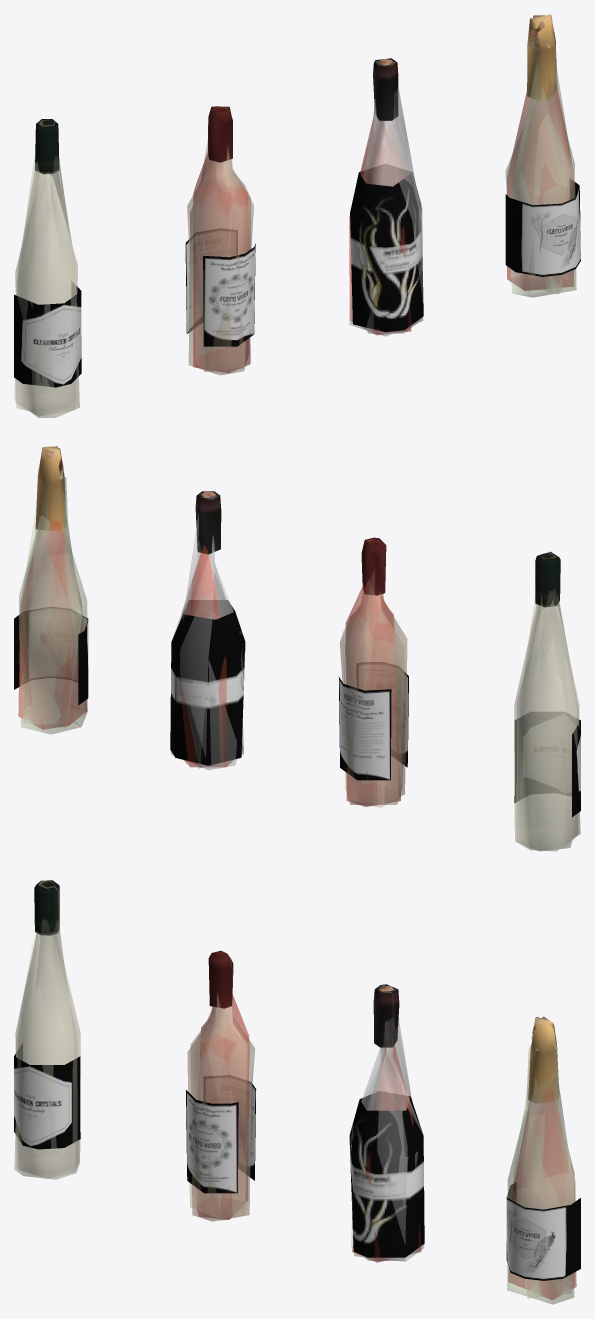
Rendered from bottles_lo.glb.
3 renders of one model, top to bottom at view 1: azimuth 30°, elevation 25°; view 2: azimuth 150°, elevation 25°; view 3: azimuth 330°, elevation 25°, orthographic.
Visible parts, largest first — view 1: wine_bottles_01_burgundy, wine_bottles_01_champagne, wine_bottles_01_alsace, wine_bottles_01_bordeaux; view 2: wine_bottles_01_champagne, wine_bottles_01_alsace, wine_bottles_01_burgundy, wine_bottles_01_bordeaux; view 3: wine_bottles_01_alsace, wine_bottles_01_champagne, wine_bottles_01_burgundy, wine_bottles_01_bordeaux.
Boxes of the visible parts, bbox=[...] form: wine_bottles_01_burgundy: bbox=[349, 58, 423, 336]; wine_bottles_01_champagne: bbox=[505, 14, 580, 297]; wine_bottles_01_alsace: bbox=[14, 119, 81, 417]; wine_bottles_01_bordeaux: bbox=[185, 106, 255, 375]; wine_bottles_01_champagne: bbox=[14, 446, 88, 734]; wine_bottles_01_alsace: bbox=[514, 551, 580, 851]; wine_bottles_01_burgundy: bbox=[170, 491, 245, 770]; wine_bottles_01_bordeaux: bbox=[338, 537, 408, 807]; wine_bottles_01_alsace: bbox=[14, 880, 80, 1179]; wine_bottles_01_champagne: bbox=[506, 1016, 580, 1304]; wine_bottles_01_burgundy: bbox=[349, 984, 424, 1262]; wine_bottles_01_bordeaux: bbox=[186, 950, 256, 1221].
Bounding box in the file's own units: 0.674 × 0.3299 × 0.0793.
Materials: 9 (6 with a texture image).
